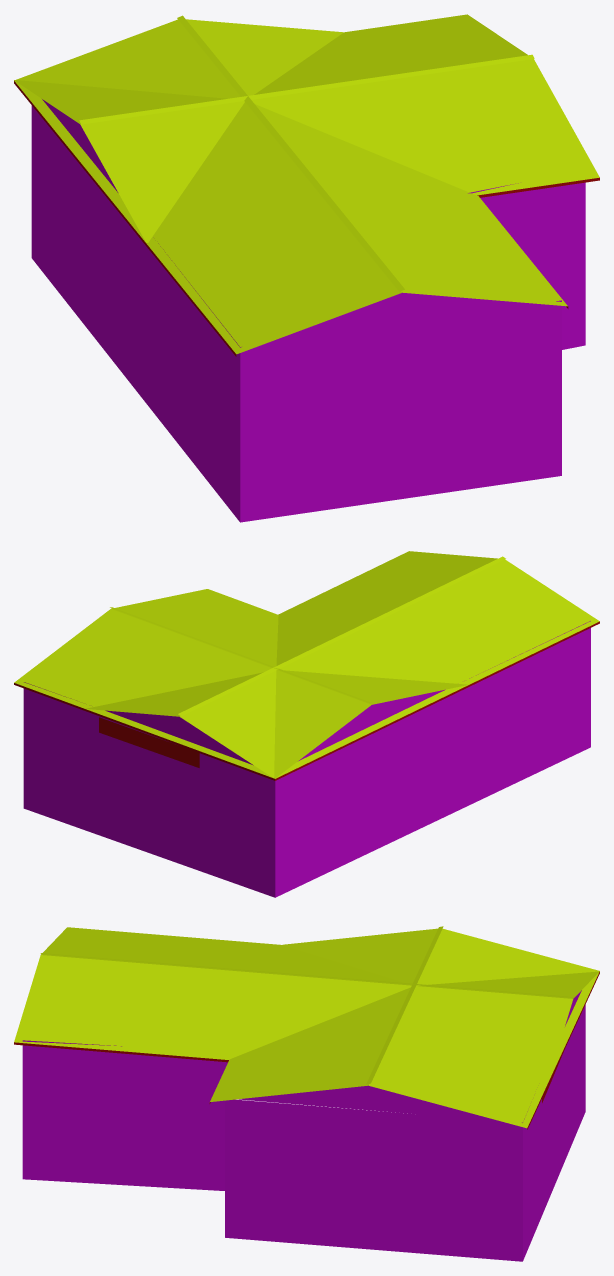
File: sdt_33.glb
3 renders of one model, top to bottom at view 1: azimuth 30°, elevation 25°; view 2: azimuth 150°, elevation 25°; view 3: azimuth 270°, elevation 25°, orthographic. The views are drawn at different scales.
Visible parts, largest first — view 1: sdt_33; view 2: sdt_33; view 3: sdt_33.
Part boxes in pixels (bbox=[...]): sdt_33: bbox=[14, 14, 599, 522]; sdt_33: bbox=[14, 551, 599, 897]; sdt_33: bbox=[14, 926, 599, 1261].
Size of the model in its own units: 23.09 by 9.05 by 28.38.
